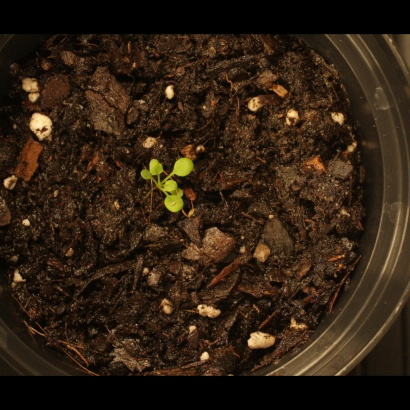leaf: (173, 156, 200, 180), (162, 192, 187, 216), (129, 168, 152, 191), (148, 155, 171, 178), (159, 175, 182, 198), (171, 182, 194, 205)
